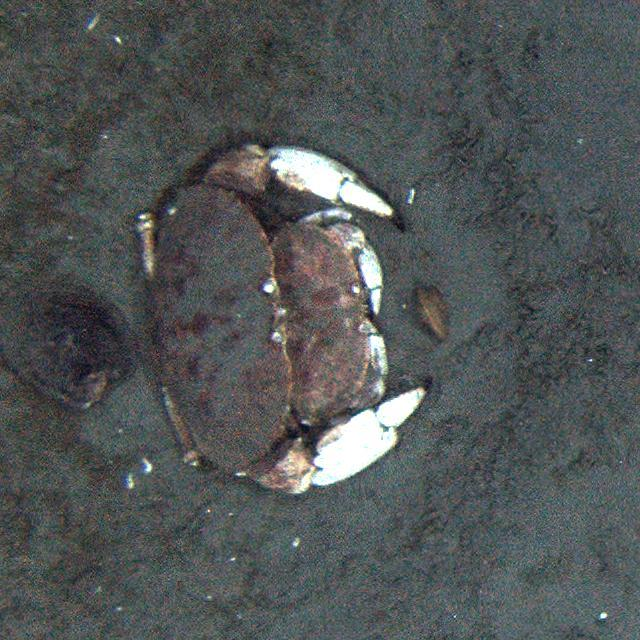crab: (136, 140, 430, 488)
